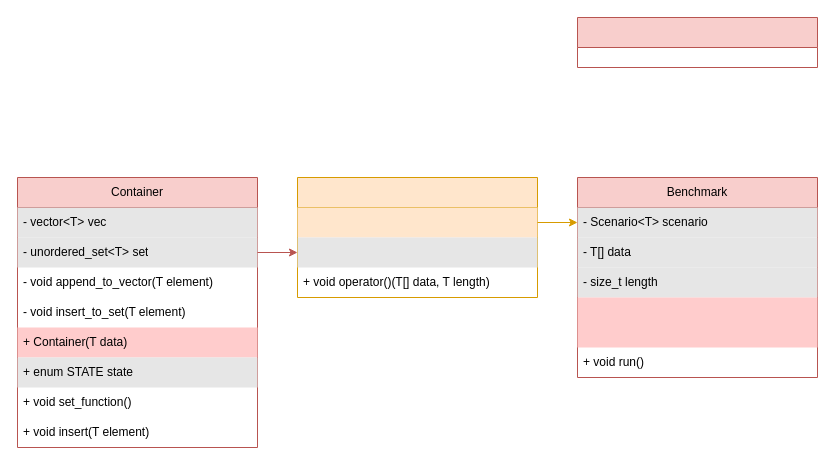
The diagram is 835 pixels wide and 465 high, and some of its shapes have lost their labels. Each missing label, with the box of its shape:
+ Benchmark(Scenario<T> scenario, T[] data, size_t length): (577, 297, 817, 347)
+ Container<T> container: (297, 237, 537, 267)
+ Scenario(Container<T> container): (297, 207, 537, 237)
Config: (576, 16, 818, 68)
Scenario (Abstract): (296, 176, 538, 298)
